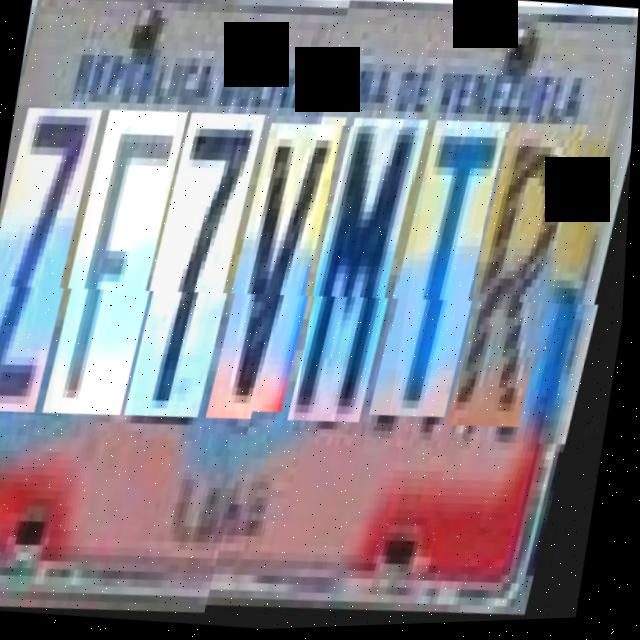7: (134, 109, 273, 429)
F: (53, 105, 196, 424)
M: (297, 125, 434, 443)
R: (455, 132, 594, 451)
T: (380, 128, 516, 439)
V: (217, 121, 353, 432)
Z: (0, 101, 110, 419)
